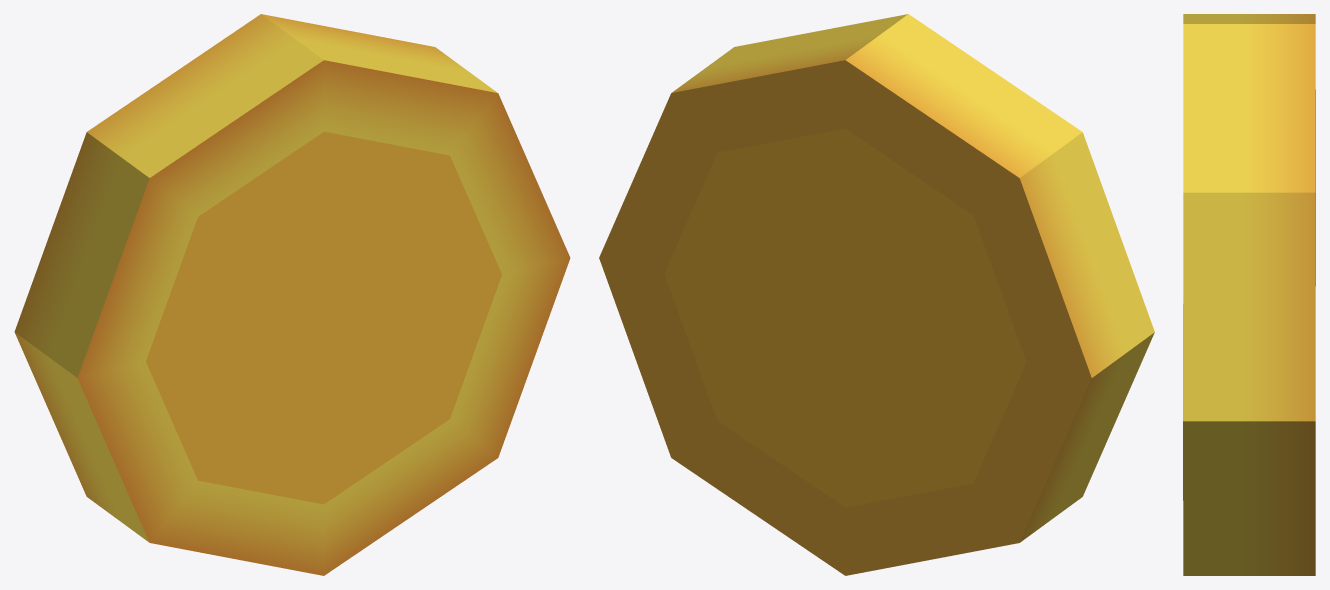
Rendered from Coin.fbx.
3 views of the same model, side by side, from view 1: azimuth 30°, elevation 25°; view 2: azimuth 150°, elevation 25°; view 3: azimuth 270°, elevation 25° (orthographic). The views are drawn at different scales.
Parts seen in each view (by area): view 1: 4.022; view 2: 4.022; view 3: 4.022.
Boxes of the visible parts, x1,y1,x2,y2 form: 4.022: [14, 14, 570, 575]; 4.022: [599, 14, 1154, 575]; 4.022: [1183, 14, 1315, 575].
Bounding box in the file's own units: 0.7766 × 0.1723 × 0.7765.
